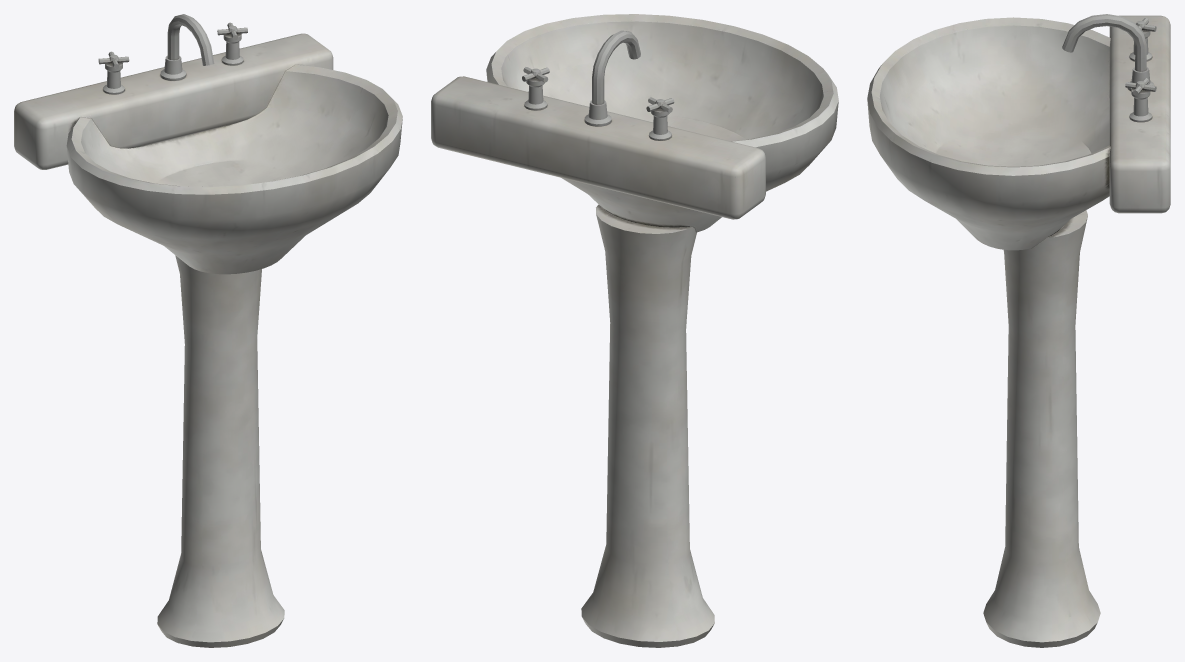
File: pia_banheiro.glb
3 renders of one model, left to right at view 1: azimuth 30°, elevation 25°; view 2: azimuth 150°, elevation 25°; view 3: azimuth 270°, elevation 25°, orthographic. The views are drawn at different scales.
Parts seen in each view (by area): view 1: pia; view 2: pia; view 3: pia.
Part boxes in pixels (x1,y1,x2,y2): pia: (14,14,402,647); pia: (431,14,838,647); pia: (867,14,1170,647).
Bounding box in the file's own units: 0.54 × 0.9865 × 0.448.
1 material, 1 textured.
